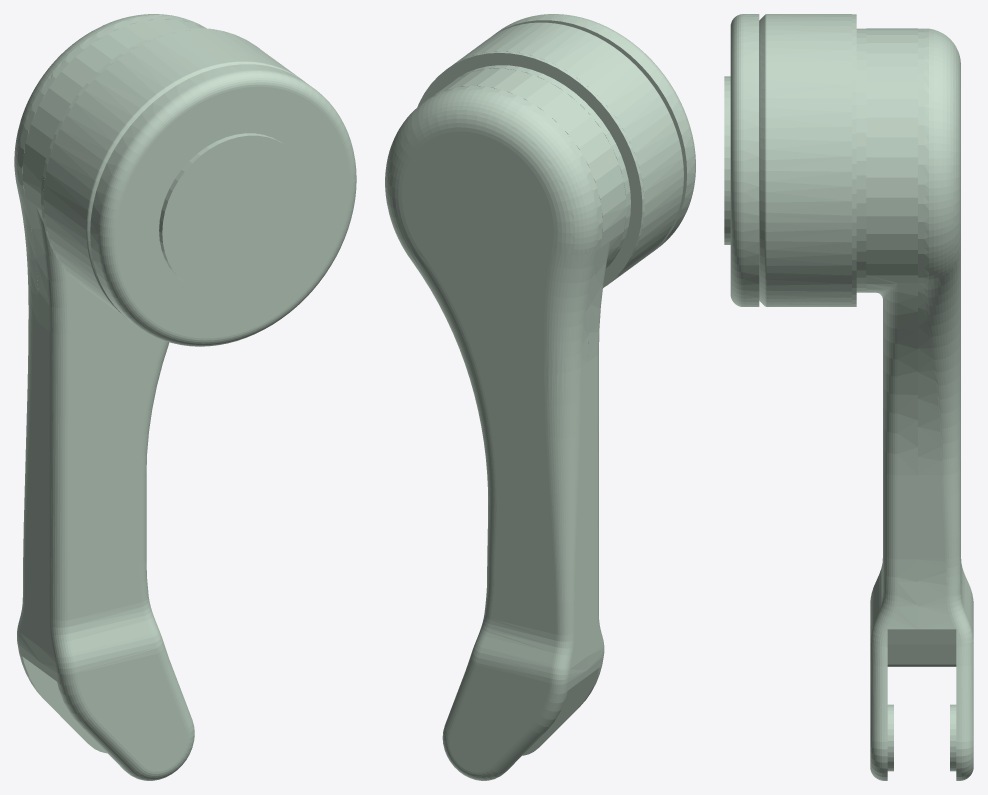
Rendered from thigh.dae.
3 renders of one model, left to right at view 1: azimuth 30°, elevation 25°; view 2: azimuth 150°, elevation 25°; view 3: azimuth 270°, elevation 25°, orthographic. The views are drawn at different scales.
Parts seen in each view (by area): view 1: Thigh Left; view 2: Thigh Left; view 3: Thigh Left.
Boxes of the visible parts, x1,y1,x2,y2 form: Thigh Left: (14, 14, 356, 780); Thigh Left: (385, 14, 695, 780); Thigh Left: (724, 14, 973, 780).
Size of the model in its own units: 0.092 by 0.0783 by 0.2595.
